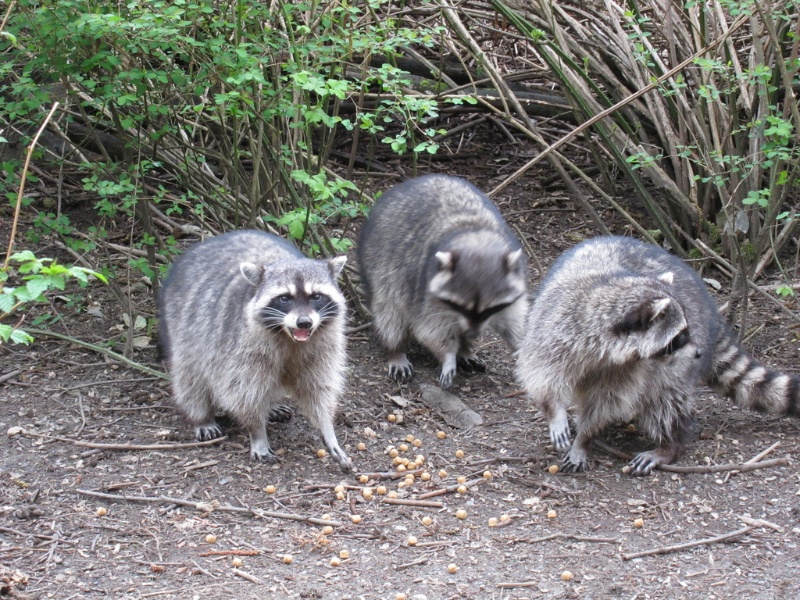raccoon: (515, 234, 791, 483), (157, 227, 363, 478), (359, 172, 524, 398)
